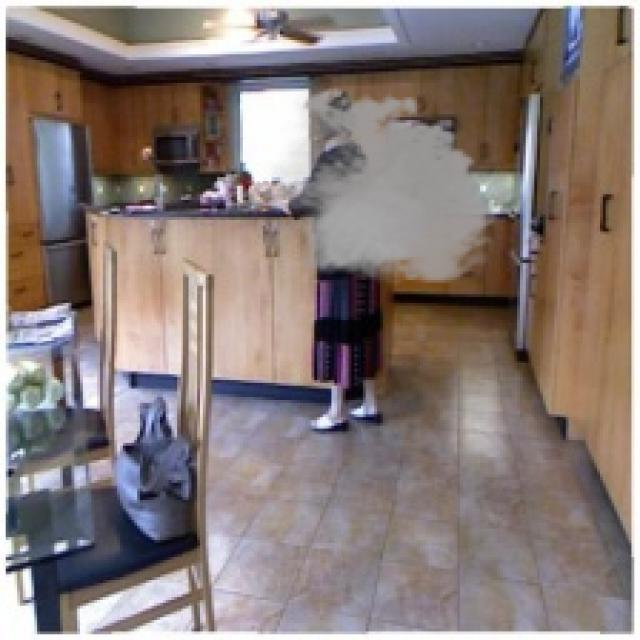Smoke: (263, 82, 506, 292)
